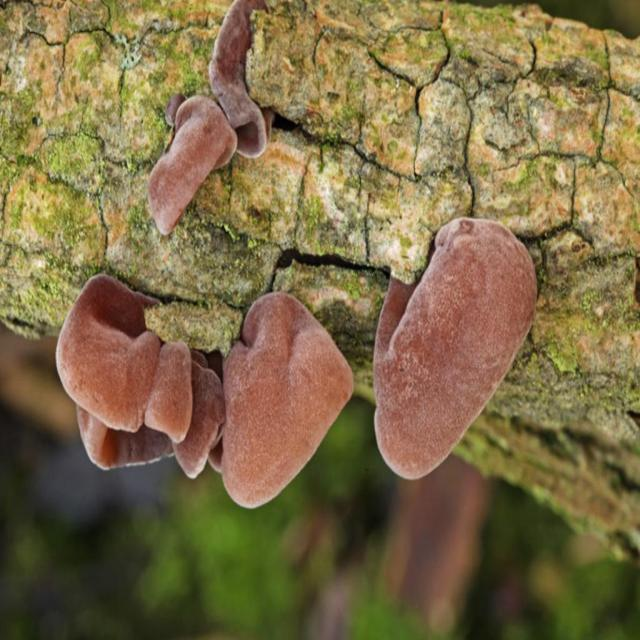Auricularia auricula: (371, 212, 539, 484), (58, 275, 227, 474), (214, 293, 354, 509), (150, 0, 265, 233)
